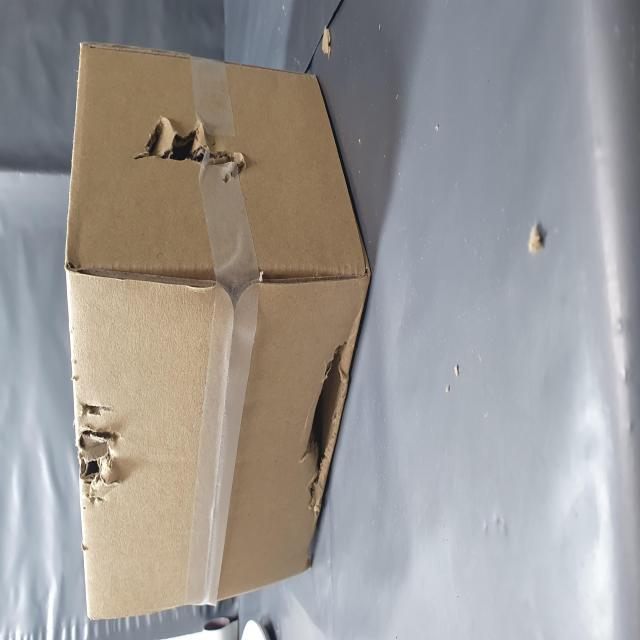damaged: (53, 514, 171, 626), (258, 251, 296, 451), (67, 138, 136, 208)
